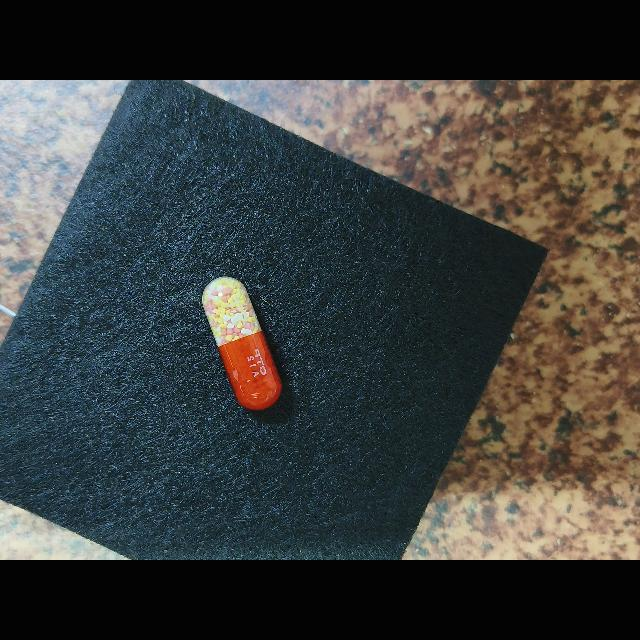Intact Capsule: (202, 277, 282, 411)
